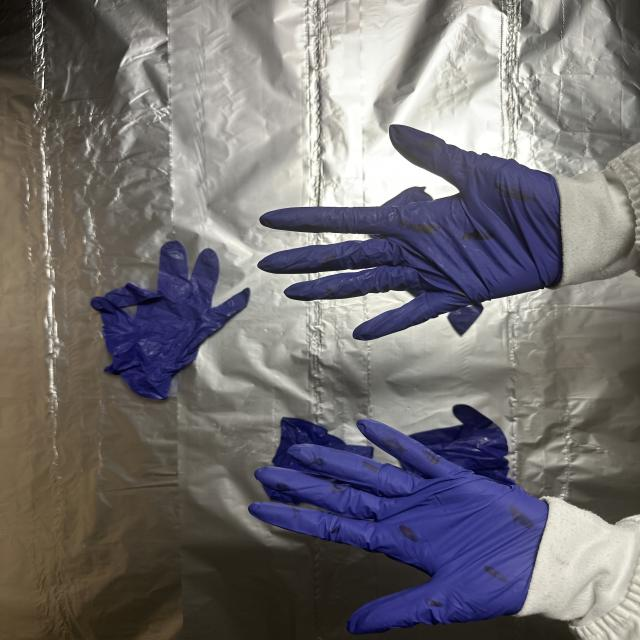gloves_contaminated: (258, 126, 562, 340), (249, 419, 548, 634)
